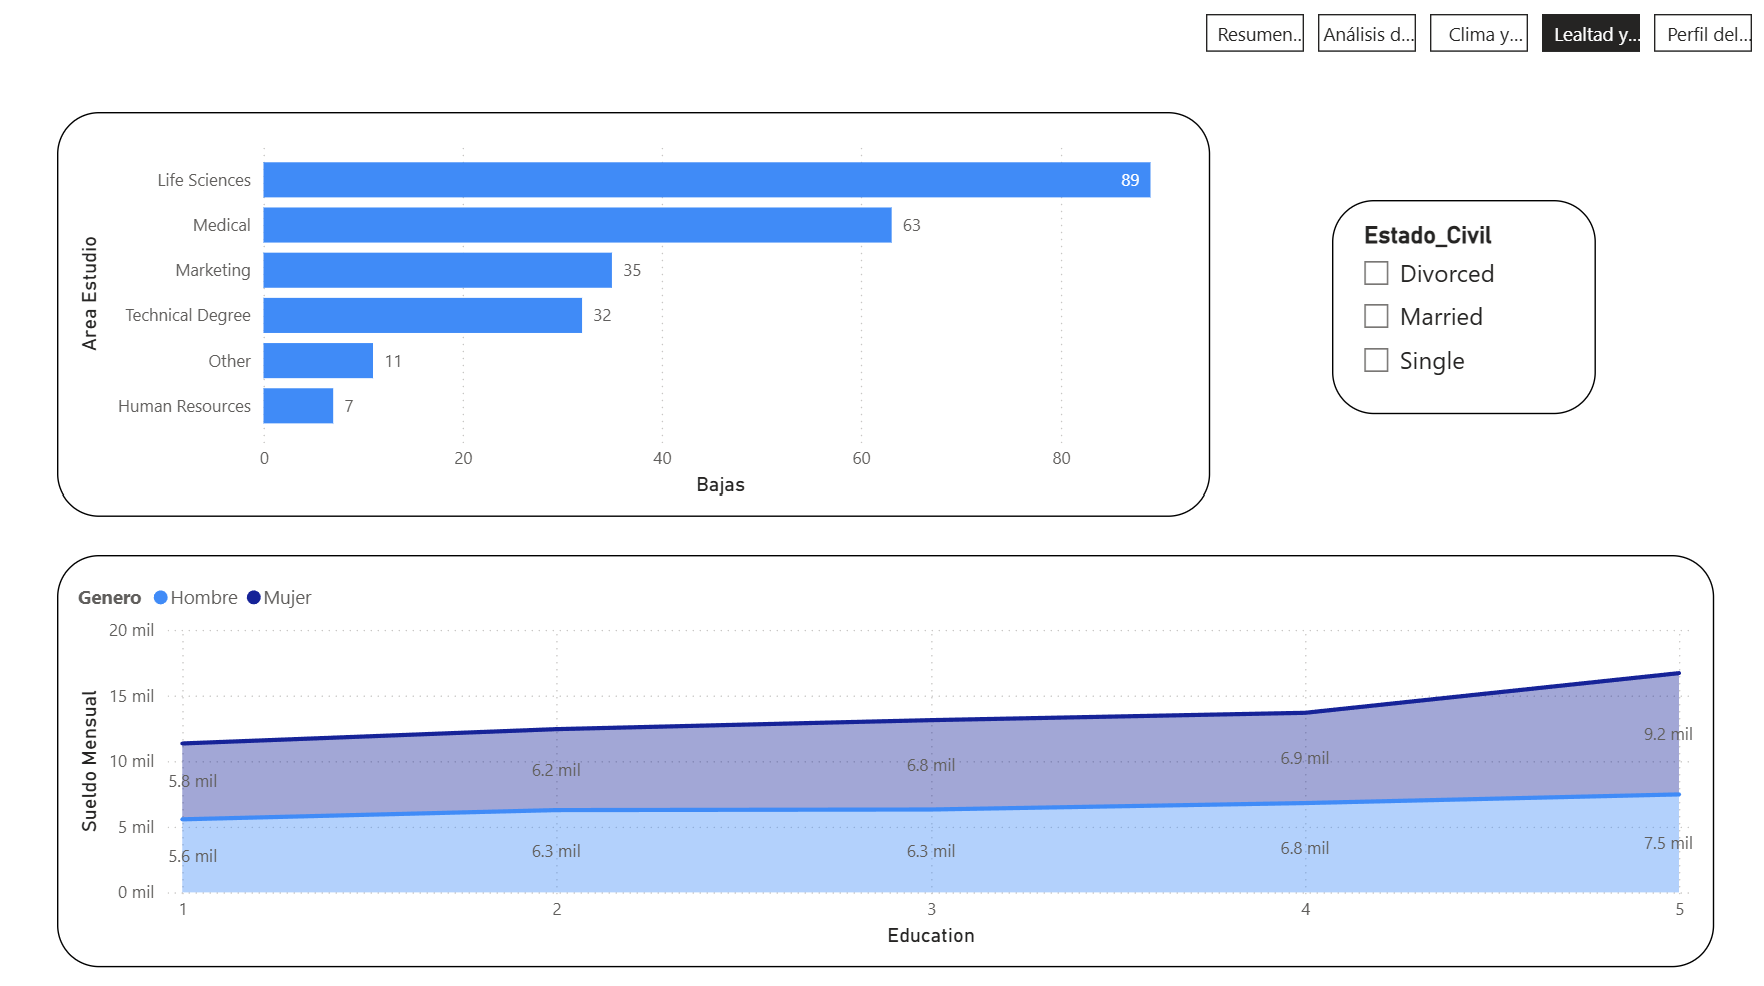

What the dashboard file says about the page in this screenshot:
{"tool":"powerbi","page":{"name":"Lealtad y Liderazgo","canvas":[1280,720],"ordinal":3},"visuals":[{"type":"barChart","fields":{"Category":["HR_Analytics_Limpio.Area_Estudio"],"Y":["HR_Analytics_Limpio.Bajas"]},"box":[48.6,84.3,822.9,288.6],"z":0},{"type":"stackedAreaChart","fields":{"Category":["HR_Analytics_Limpio.Education"],"Y":["Avg(HR_Analytics_Limpio.Sueldo_Mensual)"],"Series":["HR_Analytics_Limpio.Genero"]},"box":[48.6,400,1182.9,294.3],"z":1000},{"type":"slicer","fields":{"Values":["HR_Analytics_Limpio.Estado_Civil"]},"box":[958.6,147.1,188.6,152.9],"z":2000},{"type":"pageNavigator","box":[868.6,14.3,390,27.1],"z":3000}]}

Visuals, with their boxes in screenshot pixels (x1, y1, x2, y2):
barChart - HR_Analytics_Limpio.Area_Estudio x HR_Analytics_Limpio.Bajas: (50,109,1204,514)
stackedAreaChart - HR_Analytics_Limpio.Education x Avg(HR_Analytics_Limpio.Sueldo_Mensual): (50,552,1709,965)
slicer - HR_Analytics_Limpio.Estado_Civil: (1326,197,1591,412)
pageNavigator: (1200,11,1747,49)
